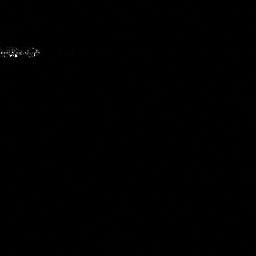ship: (1, 44, 41, 62)
